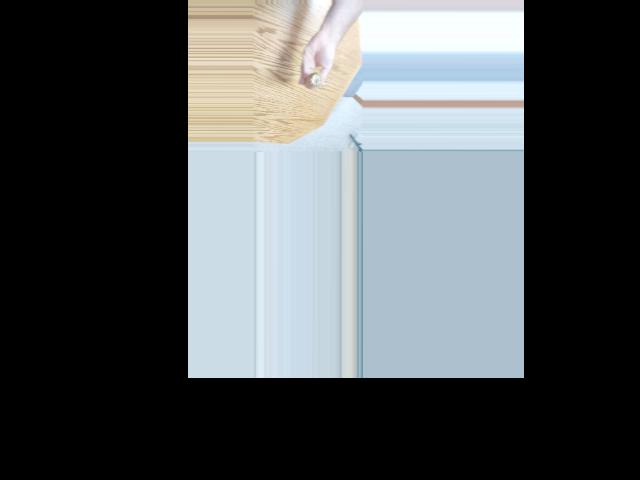sweet_potato: (308, 73, 324, 92)
